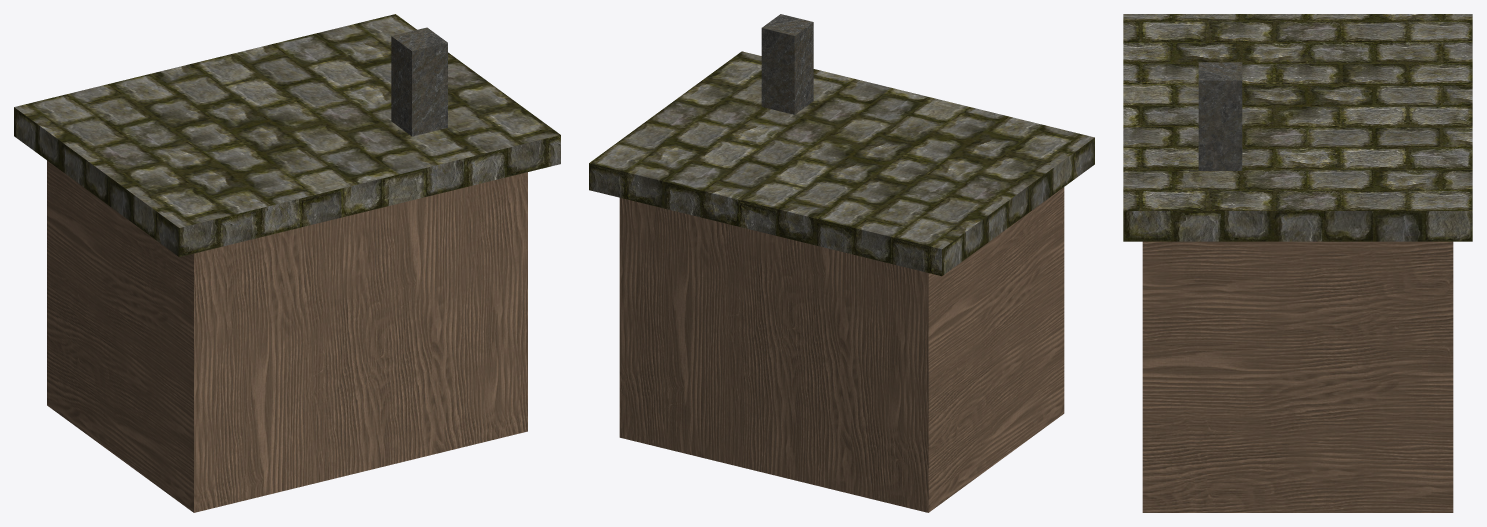
File: flagon.glb
3 views of the same model, side by side, from view 1: azimuth 30°, elevation 25°; view 2: azimuth 150°, elevation 25°; view 3: azimuth 270°, elevation 25° (orthographic). The views are drawn at different scales.
Parts seen in each view (by area): view 1: flagon; view 2: flagon; view 3: flagon.
Boxes of the visible parts, x1=… form: flagon: x1=14, y1=14, x2=560, y2=512; flagon: x1=589, y1=14, x2=1094, y2=512; flagon: x1=1123, y1=14, x2=1472, y2=512.
Size of the model in its own units: 9.6 by 9.2 by 7.2.
Materials: 3 (3 with a texture image).
